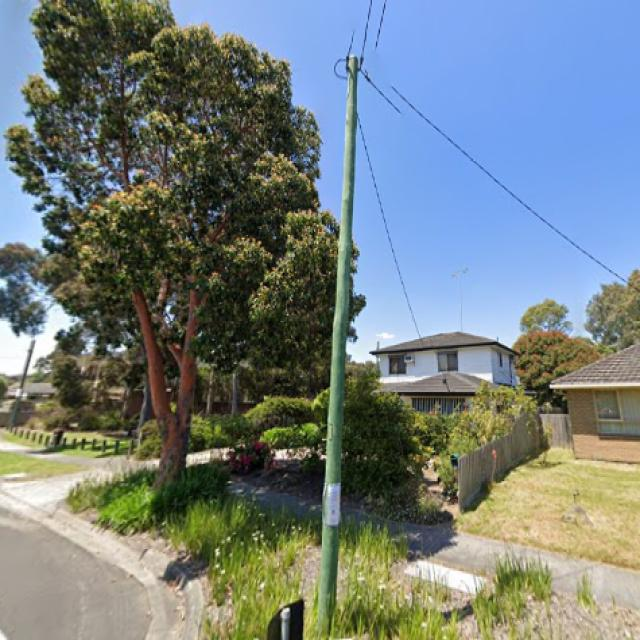timber-pole: (315, 54, 359, 637), (6, 338, 38, 432)
